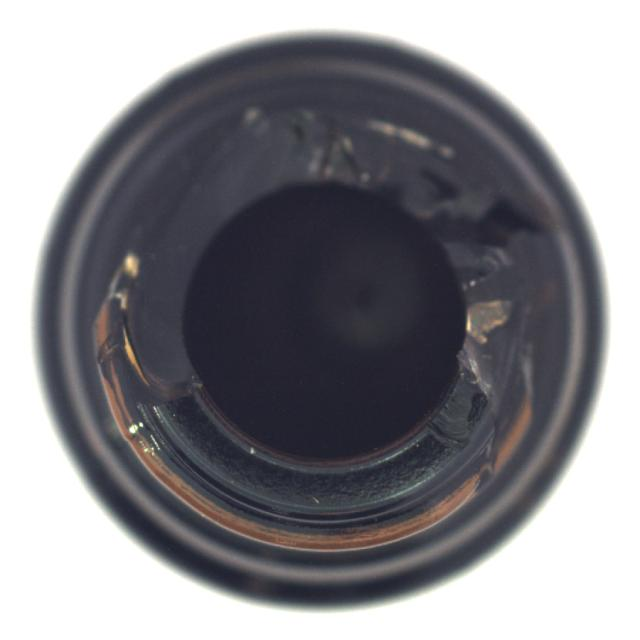bad-broken_large: (31, 28, 613, 612)
